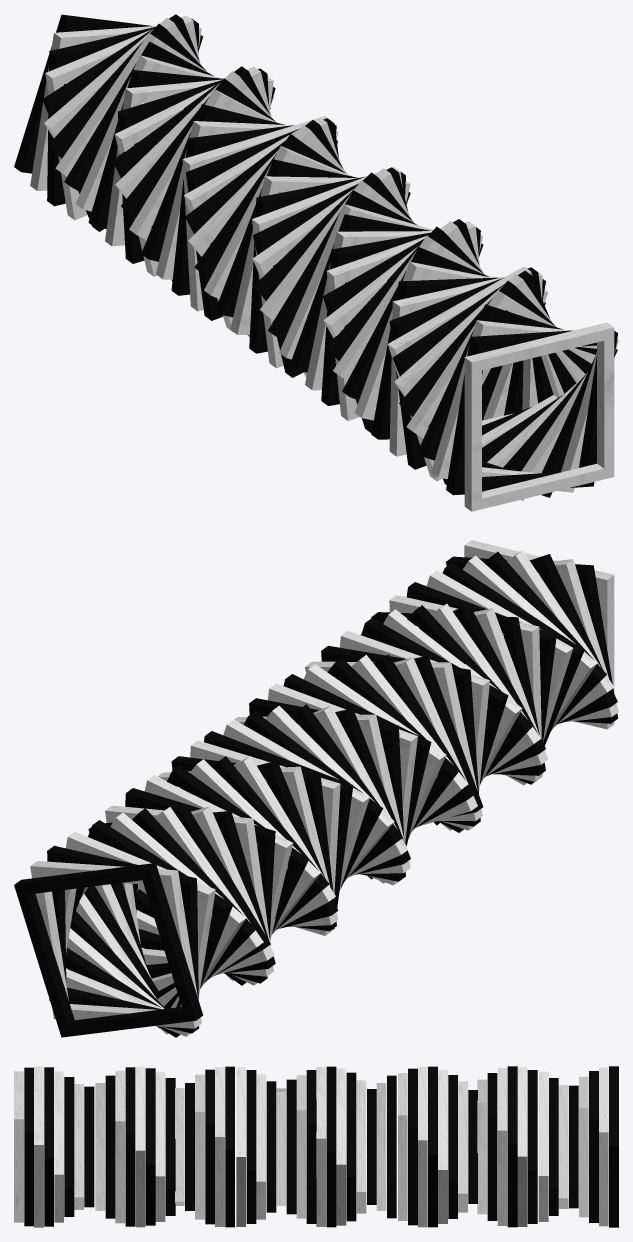
Rendered from twirlTunnel.fbx.
3 renders of one model, top to bottom at view 1: azimuth 30°, elevation 25°; view 2: azimuth 150°, elevation 25°; view 3: azimuth 270°, elevation 25°, orthographic. The views are drawn at different scales.
Visible parts, largest first — view 1: trippy; view 2: trippy; view 3: trippy.
Boxes of the visible parts, left/top/right/bottom form: trippy: left=14, top=14, right=618, bottom=511; trippy: left=14, top=540, right=618, bottom=1037; trippy: left=14, top=1066, right=618, bottom=1227.
Size of the model in its own units: 3.97 by 3.97 by 14.92.
Materials: 1 (1 with a texture image).
